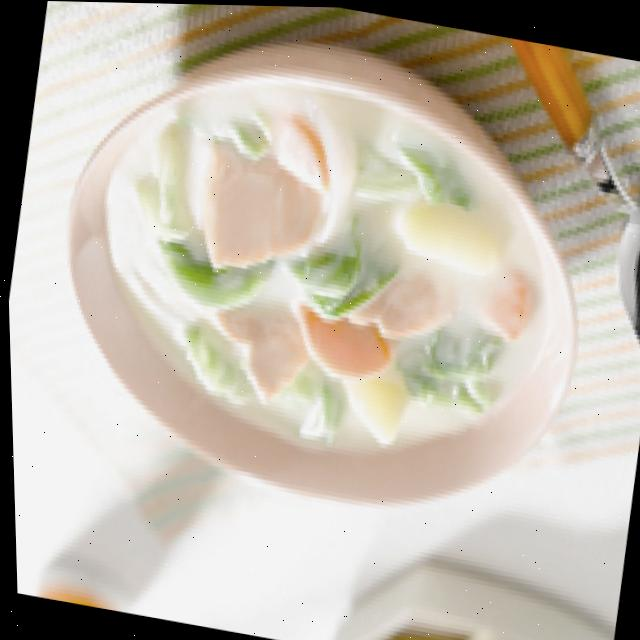汤锅炖物: (13, 0, 620, 552)
